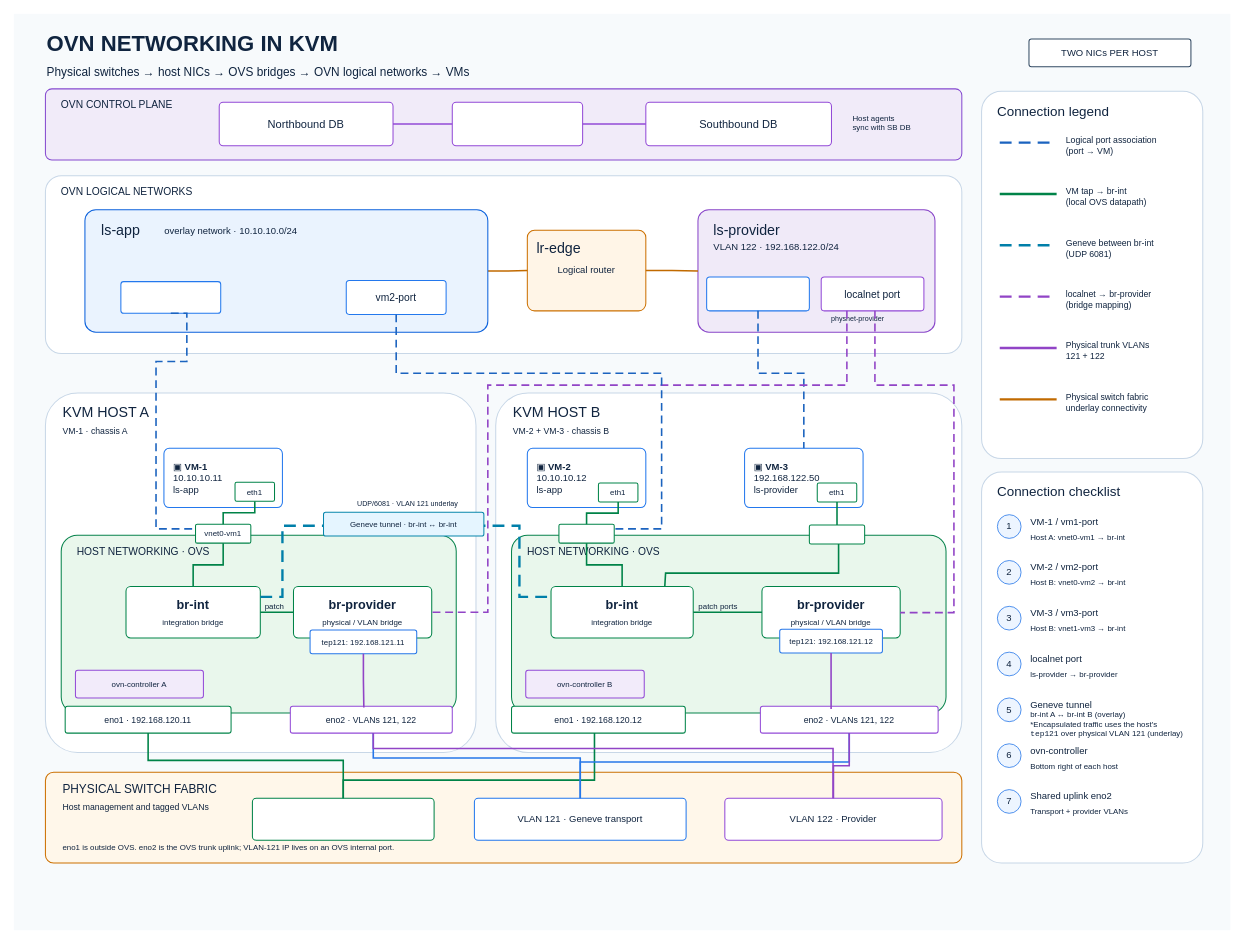
This 1243x943 diagram has some shape labels left out. Here are the shapes that lost their labels. From the top down, the centre of each, then its label:
At point 517,123: "ovn-northd".
At point 170,297: "vm1-port".
At point 758,293: "vm3-port".
At point 586,533: "vnet0-vm2".
At point 836,534: "vnet1-vm3".
At point 343,818: "VLAN 120 · Management".
